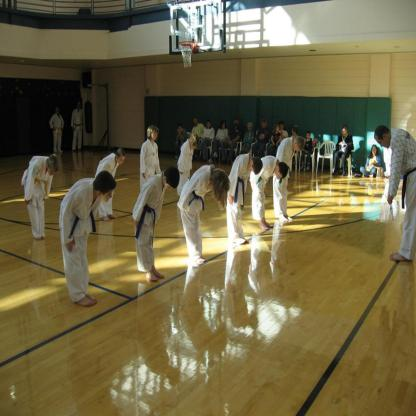face: (102, 186, 114, 203), (376, 137, 389, 150), (166, 181, 176, 190), (119, 156, 126, 166), (50, 168, 58, 176), (153, 131, 158, 141), (275, 172, 283, 178), (293, 146, 301, 152), (249, 166, 256, 172), (342, 129, 347, 137), (192, 146, 199, 151), (373, 147, 378, 154), (263, 121, 267, 128), (194, 119, 198, 125), (280, 124, 284, 130), (222, 123, 226, 129), (292, 128, 295, 135), (249, 125, 252, 132), (179, 127, 182, 133), (209, 122, 212, 128), (307, 134, 310, 140), (278, 127, 281, 133), (235, 120, 238, 126), (57, 108, 60, 114), (79, 104, 82, 108)
